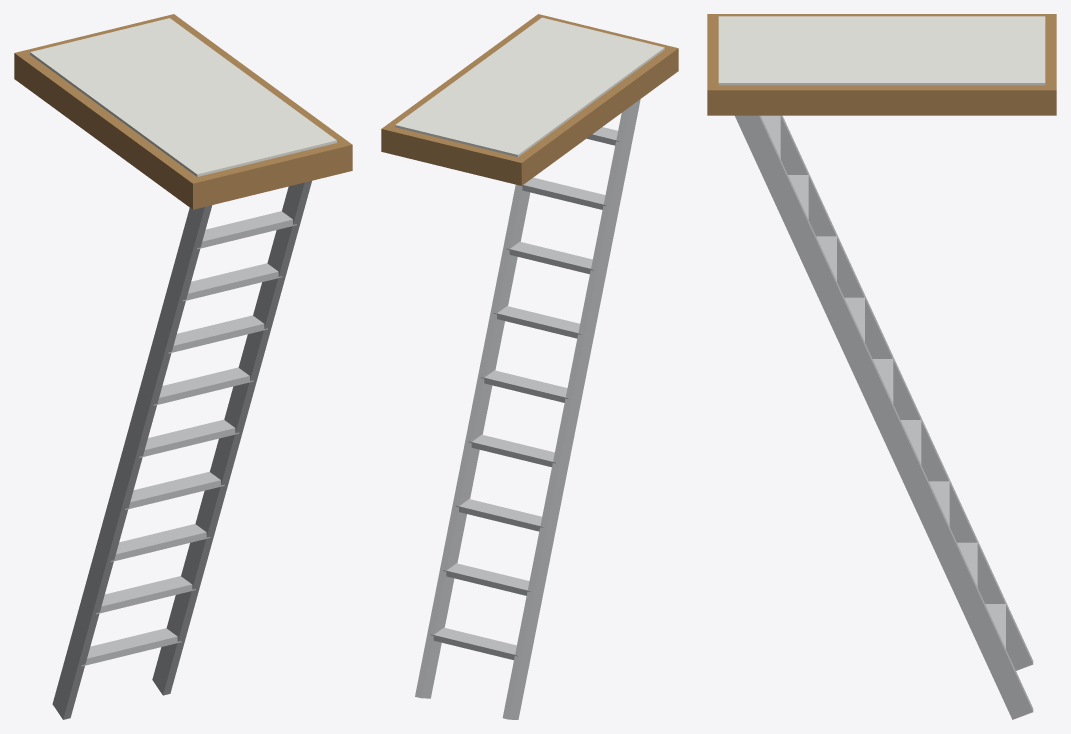
File: home.utility.loft_ladder.glb
3 renders of one model, left to right at view 1: azimuth 30°, elevation 25°; view 2: azimuth 150°, elevation 25°; view 3: azimuth 270°, elevation 25°, orthographic. The views are drawn at different scales.
Visible parts, largest first — view 1: main__aluminium, main__paint_white, main__softwood; view 2: main__aluminium, main__paint_white, main__softwood; view 3: main__aluminium, main__paint_white, main__softwood.
Boxes of the visible parts, x1,y1,x2,y2 form: main__aluminium: (52,181,311,719); main__paint_white: (30,18,336,176); main__softwood: (14,14,352,209); main__aluminium: (415,99,640,719); main__paint_white: (395,17,664,156); main__softwood: (381,14,678,185); main__aluminium: (735,115,1033,719); main__paint_white: (718,16,1045,85); main__softwood: (707,14,1056,115).
Size of the model in its own units: 0.64 by 2.53 by 1.24.
